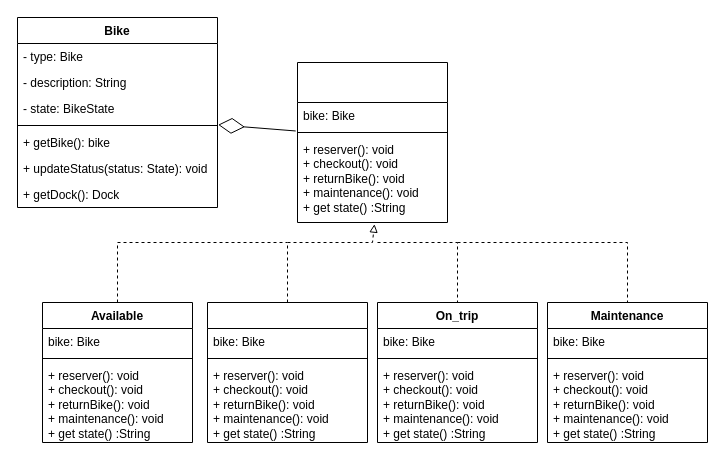
The diagram is 725 pixels wide and 463 high, and some of its shapes have lost their labels. The shapes that lost their labels are listed below. From the top down, each one's box as (x1, y1, x2, y2) in pixels, then its label:
(296, 62, 448, 222): <<interface>> BikeState
(206, 302, 368, 442): Reserved
